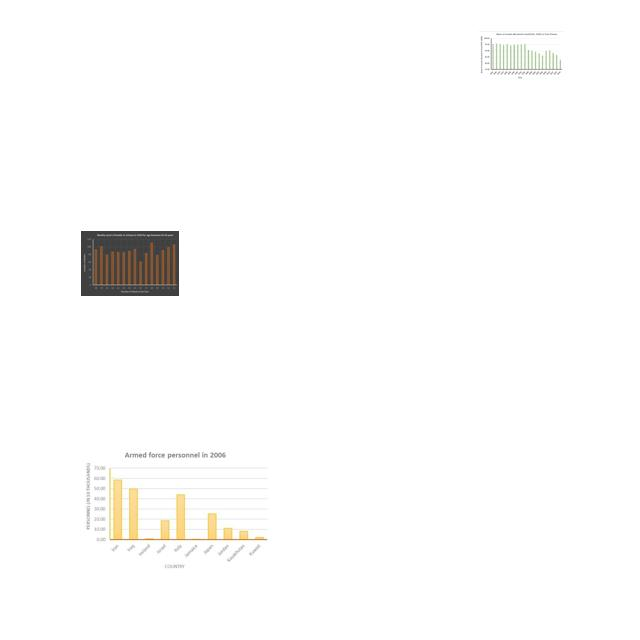Graph: (84, 449, 271, 574), (81, 231, 179, 296), (479, 31, 563, 80)
